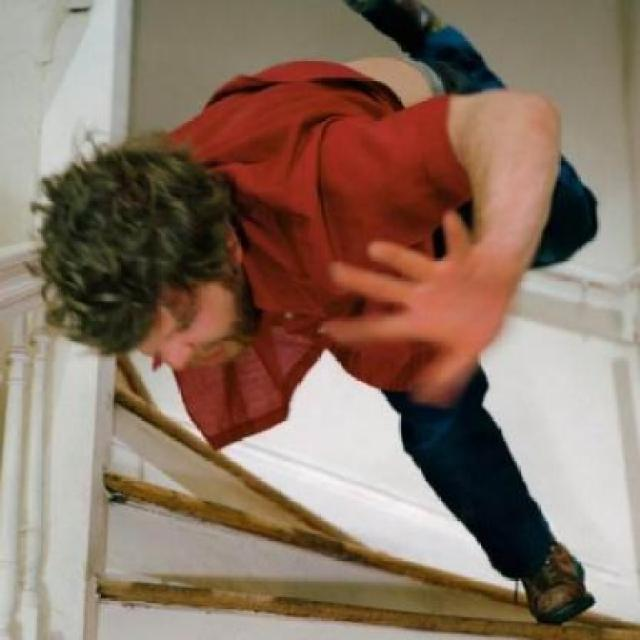fall: (31, 4, 612, 624)
